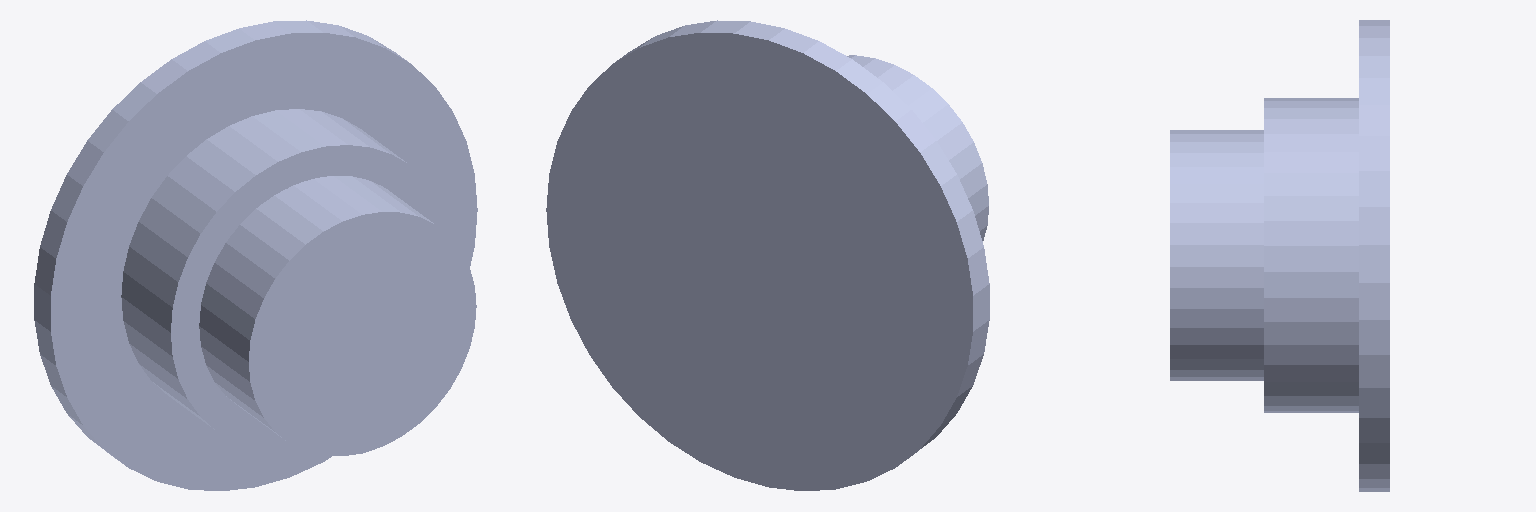
The robot description file, URDF, robot "Assem1":
<?xml version="1.0" encoding="utf-8"?>
<!-- This URDF was automatically created by SolidWorks to URDF Exporter! Originally created by [author] ([email redacted]) 
     Commit Version: 1.6.0-1-g15f4949  Build Version: 1.6.7594.29634
     For more information, please see http://wiki.ros.org/sw_urdf_exporter -->
<robot
  name="Assem1">
  <link
    name="base_link">
    <inertial>
      <origin
        xyz="0.00132006643837276 -0.151207801920119 0.0131406015865665"
        rpy="0 0 0" />
      <mass
        value="0.26153758841135" />
      <inertia
        ixx="0.000343282811005461"
        ixy="9.76681064463969E-37"
        ixz="3.3881317890172E-21"
        iyy="0.000343282811005461"
        iyz="-6.88113034561892E-37"
        izz="0.000670896928651143" />
    </inertial>
    <visual>
      <origin
        xyz="0 0 0"
        rpy="0 0 0" />
      <geometry>
        <mesh
          filename="package://Assem1/meshes/base_link.STL" />
      </geometry>
      <material
        name="">
        <color
          rgba="0.792156862745098 0.819607843137255 0.933333333333333 1" />
      </material>
    </visual>
    <collision>
      <origin
        xyz="0 0 0"
        rpy="0 0 0" />
      <geometry>
        <mesh
          filename="package://Assem1/meshes/base_link.STL" />
      </geometry>
    </collision>
  </link>
  <link
    name="Empty_Link">
    <inertial>
      <origin
        xyz="-2.16840434497101E-18 0 0.03"
        rpy="0 0 0" />
      <mass
        value="0.30159289474462" />
      <inertia
        ixx="0.000211115026321234"
        ixy="5.55363226825144E-69"
        ixz="6.26762360421437E-37"
        iyy="0.000211115026321234"
        iyz="-6.99382379544791E-37"
        izz="0.000241274315795696" />
    </inertial>
    <visual>
      <origin
        xyz="0 0 0"
        rpy="0 0 0" />
      <geometry>
        <mesh
          filename="package://Assem1/meshes/Empty_Link.STL" />
      </geometry>
      <material
        name="">
        <color
          rgba="0.792156862745098 0.819607843137255 0.933333333333333 1" />
      </material>
    </visual>
    <collision>
      <origin
        xyz="0 0 0"
        rpy="0 0 0" />
      <geometry>
        <mesh
          filename="package://Assem1/meshes/Empty_Link.STL" />
      </geometry>
    </collision>
  </link>
  <joint
    name="joint_base_empty"
    type="continuous">
    <origin
      xyz="0.0013201 -0.011654 -0.15121"
      rpy="1.5708 0 0" />
    <parent
      link="base_link" />
    <child
      link="Empty_Link" />
    <axis
      xyz="0 0 1" />
  </joint>
</robot>

--- What the picture shows (computed from the rendered views, not written in the file) ---
Views: 3 orthographic renders of the robot side by side, from view 1: azimuth 30°, elevation 25°; view 2: azimuth 150°, elevation 25°; view 3: azimuth 270°, elevation 25°.
Robot: Assem1 — 2 links, 1 joints (1 continuous); root link base_link; default pose: every joint at zero.
Visible links, largest first — view 1: base_link, Empty_Link; view 2: base_link, Empty_Link; view 3: base_link, Empty_Link.
Boxes of the visible links, x1,y1,x2,y2 form: base_link: [34, 20, 477, 490]; Empty_Link: [199, 176, 476, 455]; base_link: [546, 20, 989, 490]; Empty_Link: [847, 55, 988, 240]; base_link: [1264, 20, 1389, 491]; Empty_Link: [1170, 130, 1263, 380].
Bounding box of the posed robot: 0.1498 × 0.07 × 0.1499 m (x, y, z).
Meshes: 2 distinct files referenced, 2 mesh visuals loaded (2 binary STL).
